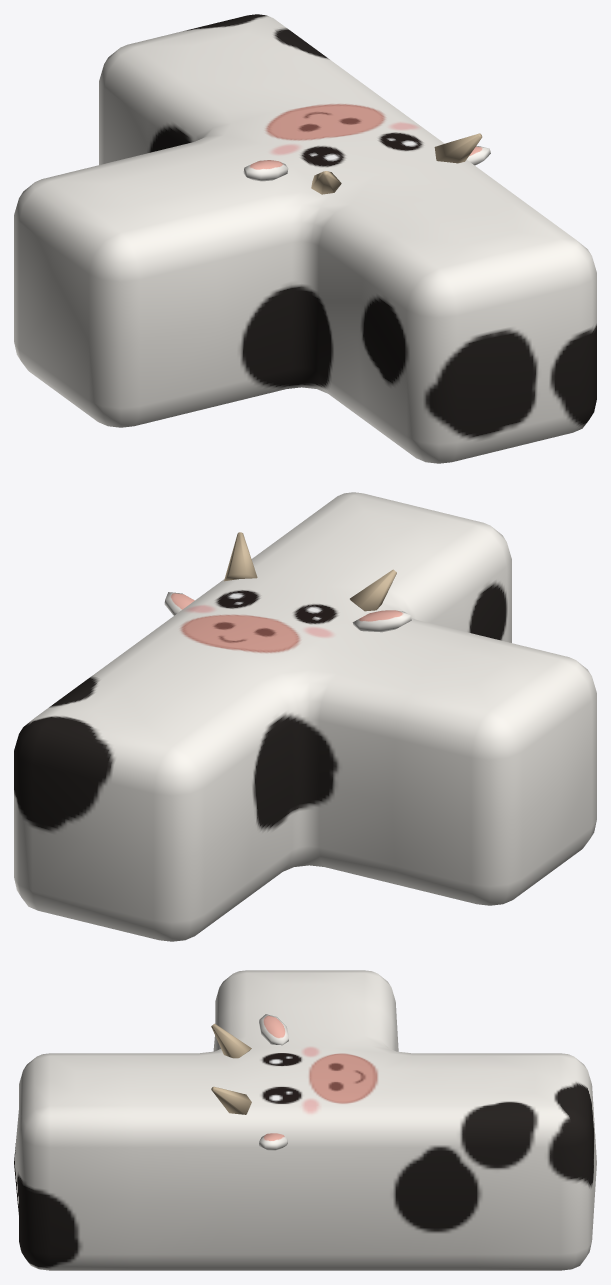
File: Cow_T.fbx
3 renders of one model, top to bottom at view 1: azimuth 30°, elevation 25°; view 2: azimuth 150°, elevation 25°; view 3: azimuth 270°, elevation 25°, orthographic. The views are drawn at different scales.
Visible parts, largest first — view 1: Cow_T; view 2: Cow_T; view 3: Cow_T.
Boxes of the visible parts, x1,y1,x2,y2 form: Cow_T: [14, 14, 596, 463]; Cow_T: [14, 492, 596, 941]; Cow_T: [14, 970, 596, 1270].
Size of the model in its own units: 2.08 by 1.02 by 2.97.
1 material, 1 textured.
